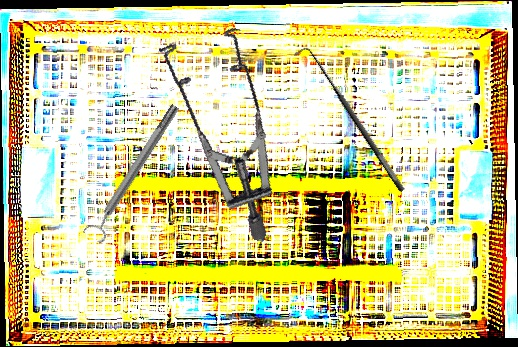Fixation Ring: (81, 100, 187, 245)
Hook Surgical: (292, 39, 407, 201)
Speculum: (115, 9, 319, 243)
